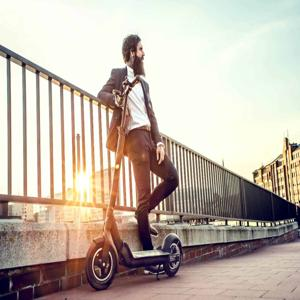human on a scooter: (84, 33, 183, 292)
